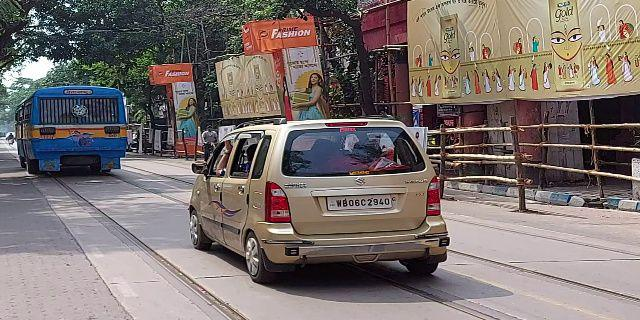Bus: (15, 85, 128, 180)
Car: (183, 114, 456, 286)
